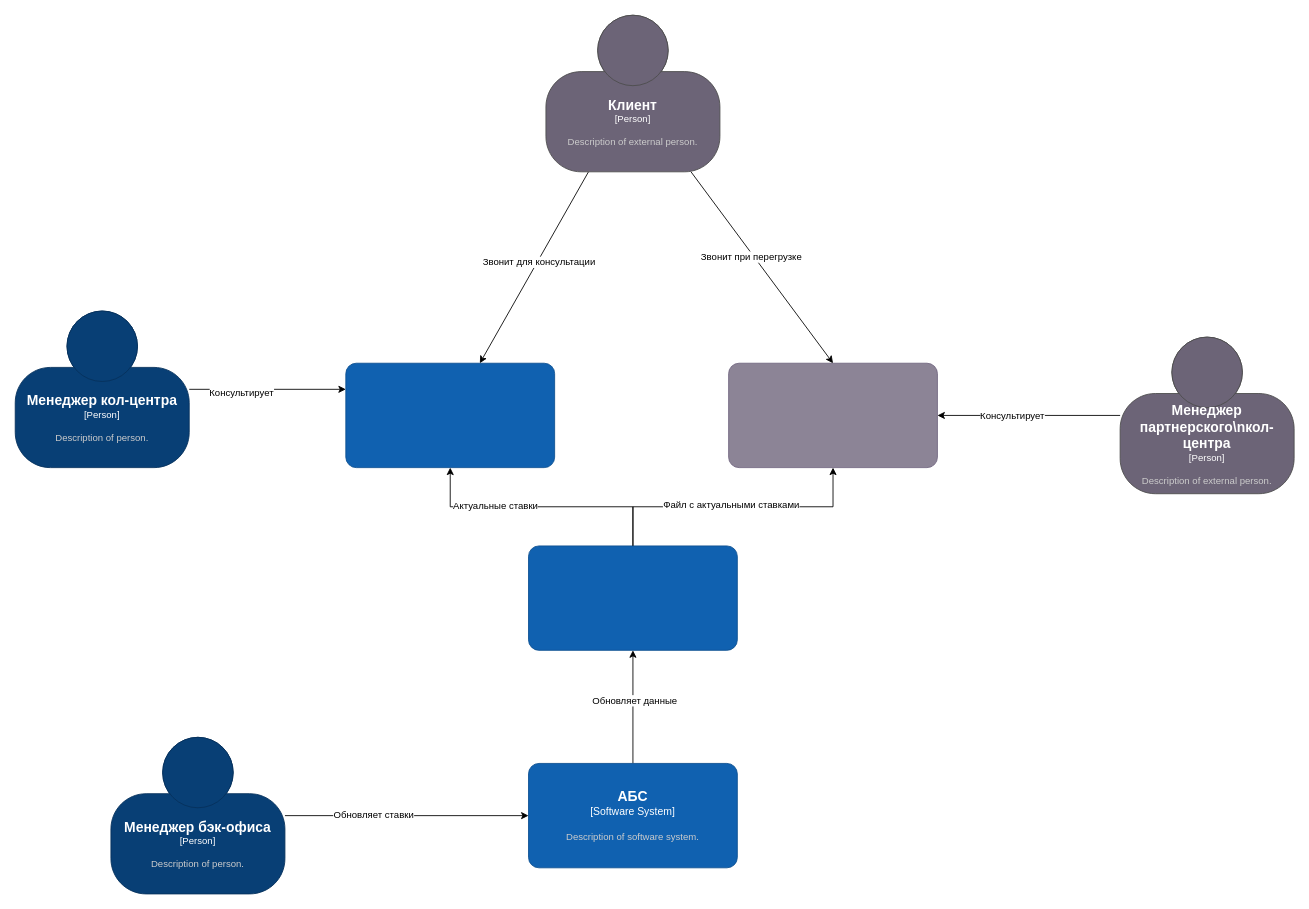
Some shapes in this 1309 by 909 pixel diagram are drawn without their labels. Each missing label, with the centre of its shape:
"Интеграционный слой [Software System] Description of software system." goes at point 632,597.
"Кол-центр банка [Software System] Description of software system." goes at point 450,415.
"Партнерский кол-центр [Software System] Description of external software system." goes at point 832,415.
